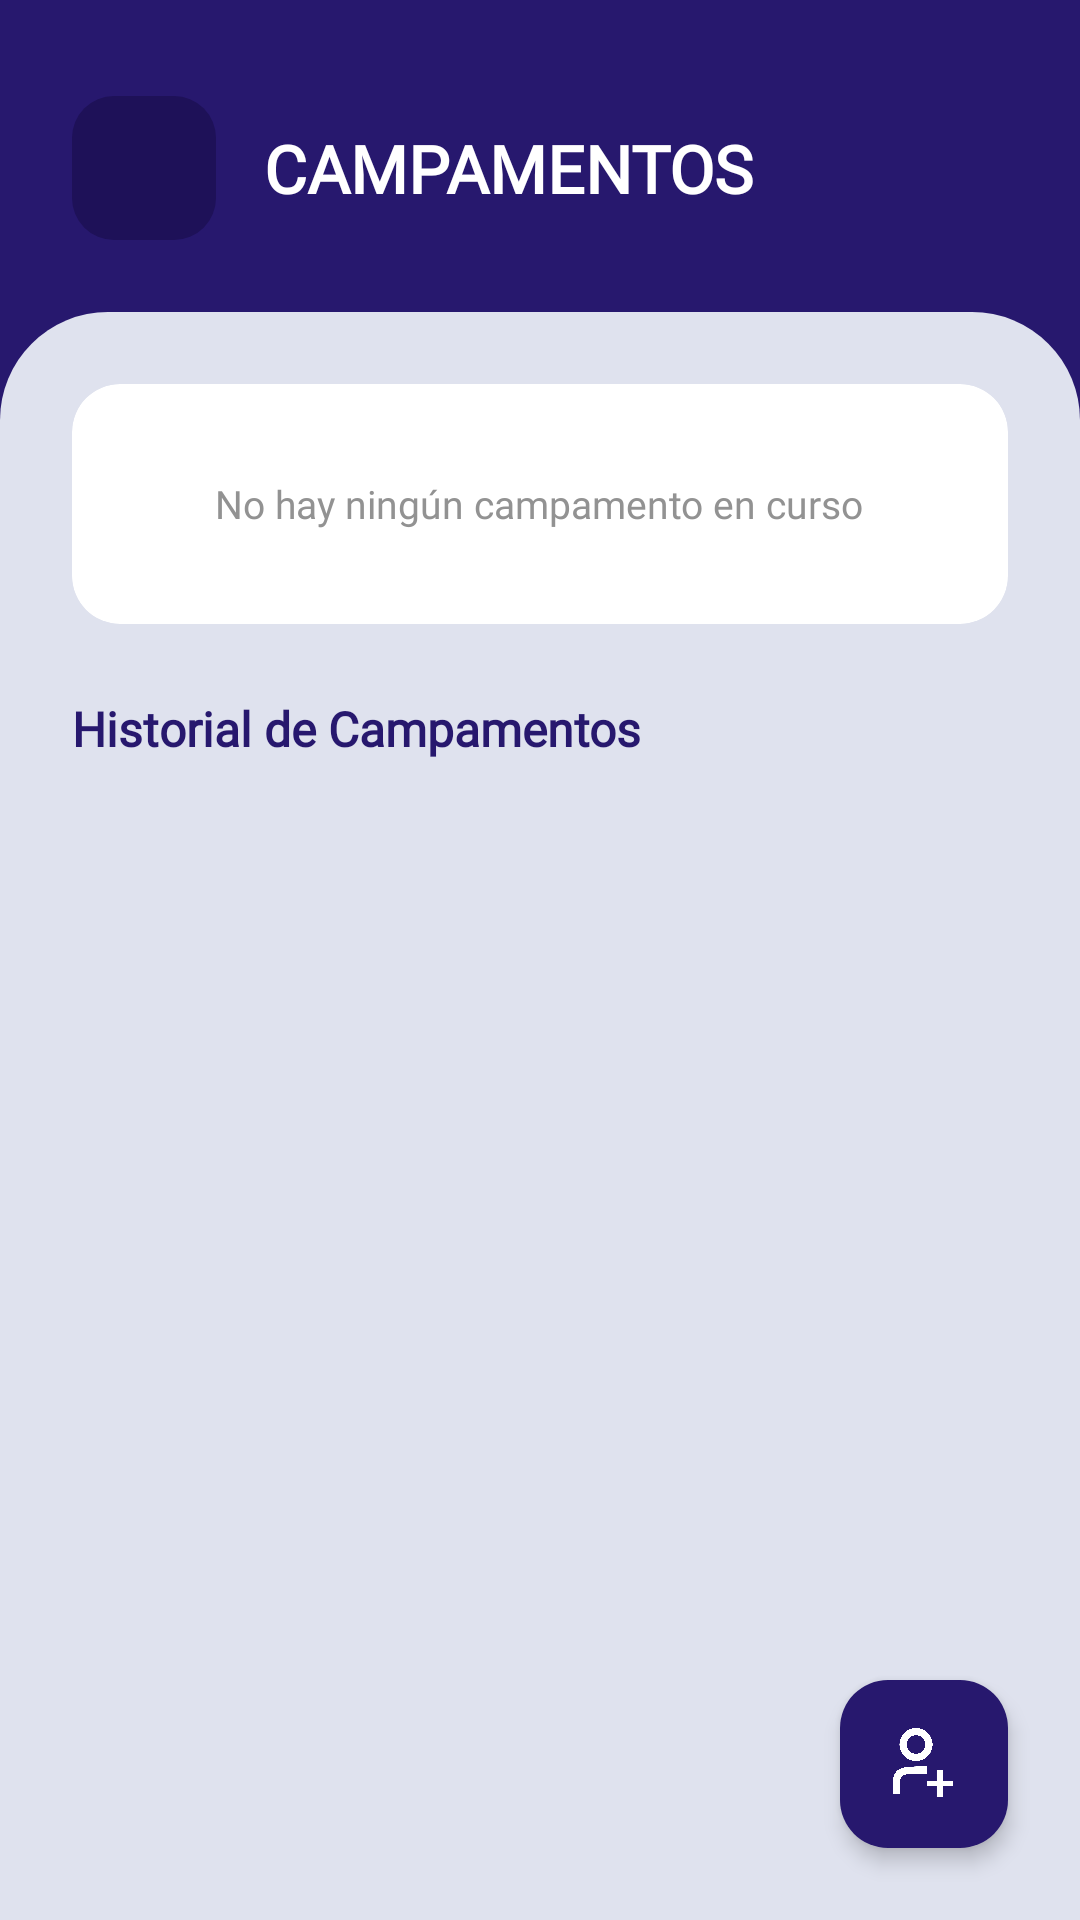

Icon bounding boxes for this 1080*1920 phone screenshot, format (x1, y1, x2, y2):
user add: (840, 1680, 1008, 1848)
